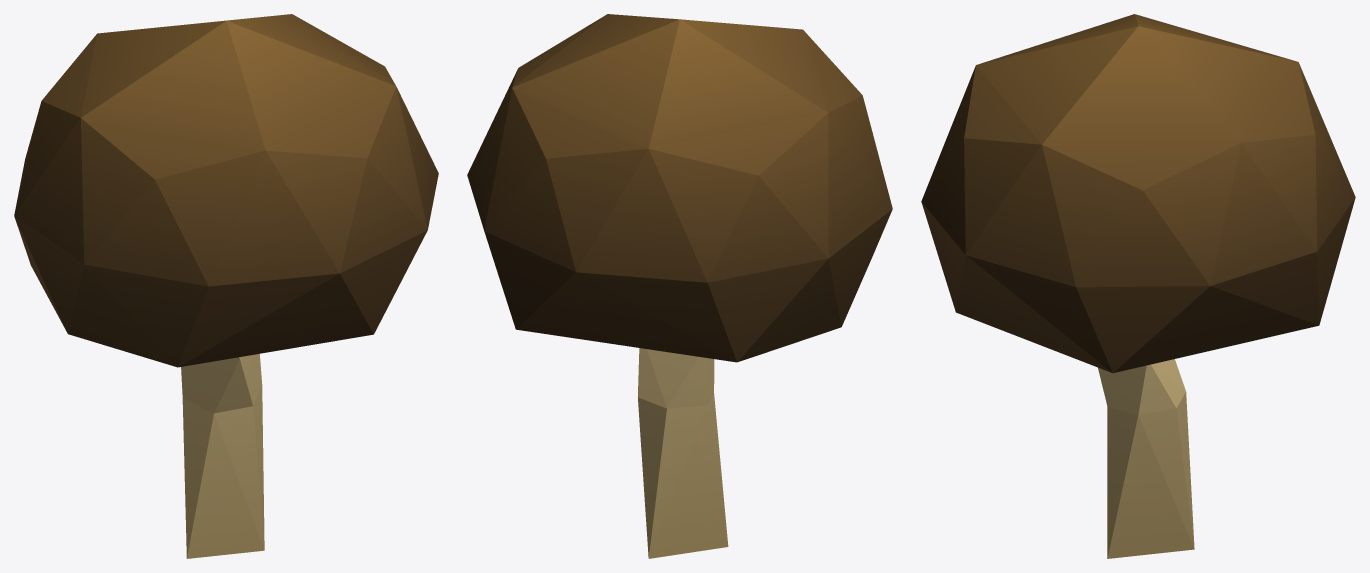
File: Mesh_Nature_Mushroom_03.FBX
The picture shows the model from 3 angles, left to right: view 1: azimuth 30°, elevation 25°; view 2: azimuth 150°, elevation 25°; view 3: azimuth 270°, elevation 25°; orthographic projection.
Visible parts, largest first — view 1: Mesh_Nature_Mushroom_03; view 2: Mesh_Nature_Mushroom_03; view 3: Mesh_Nature_Mushroom_03.
Part boxes in pixels (box(x1,y1,x2,y2)): Mesh_Nature_Mushroom_03: box(14, 14, 438, 558); Mesh_Nature_Mushroom_03: box(467, 14, 892, 558); Mesh_Nature_Mushroom_03: box(921, 14, 1355, 558).
Size of the model in its own units: 12.17 by 16.83 by 12.7.
